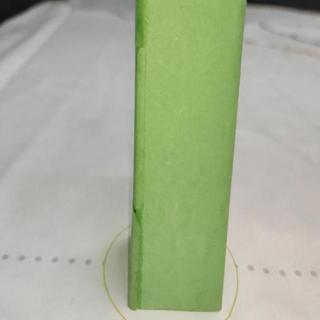greenbox: (126, 0, 250, 314)
